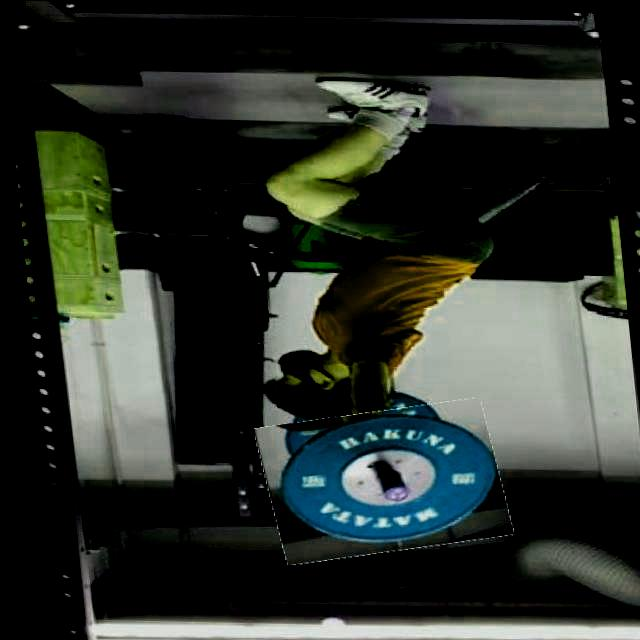barbell: (248, 400, 502, 560)
